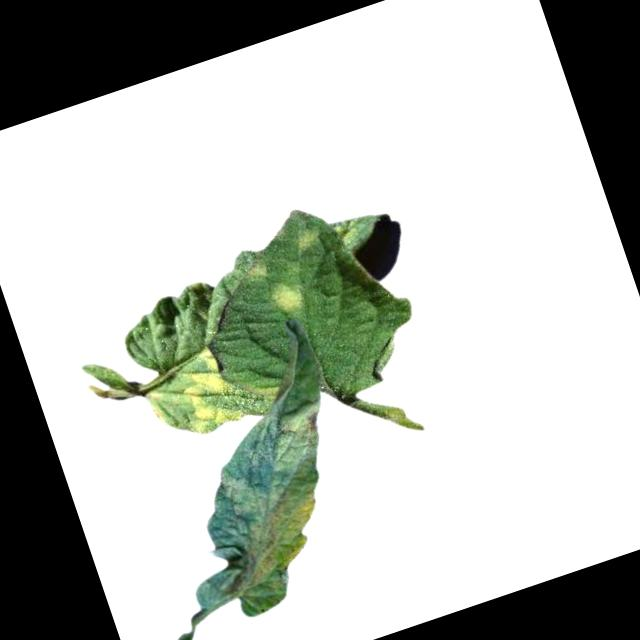Leaf_Mold: (226, 484, 337, 585), (167, 343, 246, 436), (254, 397, 335, 467), (263, 275, 307, 322), (238, 255, 270, 286), (291, 222, 323, 252)
